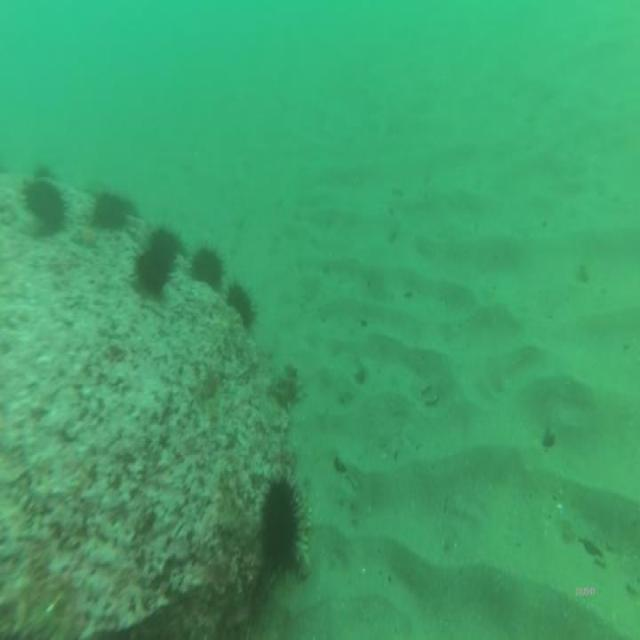echinus: (262, 484, 295, 564), (24, 178, 63, 230), (93, 188, 127, 231), (136, 253, 168, 294), (190, 245, 220, 288), (225, 283, 254, 321), (149, 225, 176, 258)
holothurian: (293, 492, 313, 578)
